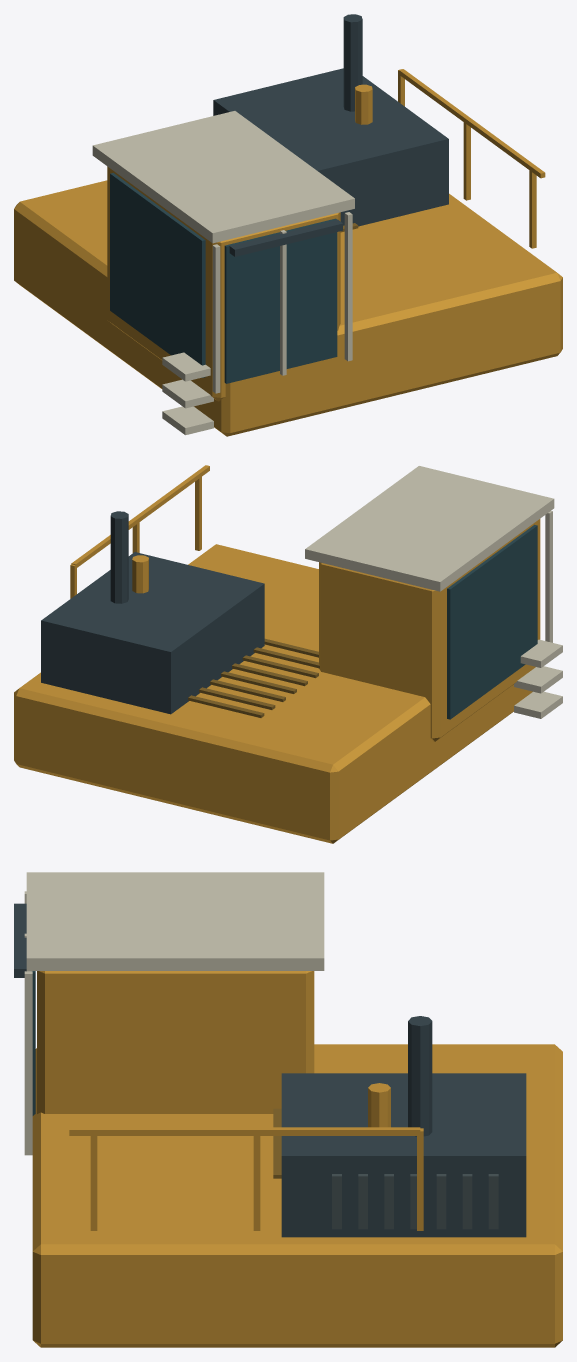
Rendered from exc-turret.glb.
The picture shows the model from 3 angles, top to bottom: view 1: azimuth 30°, elevation 25°; view 2: azimuth 150°, elevation 25°; view 3: azimuth 270°, elevation 25°; orthographic projection. The views are drawn at different scales.
Size of the model in its own units: 6.57 by 4 by 6.73.
